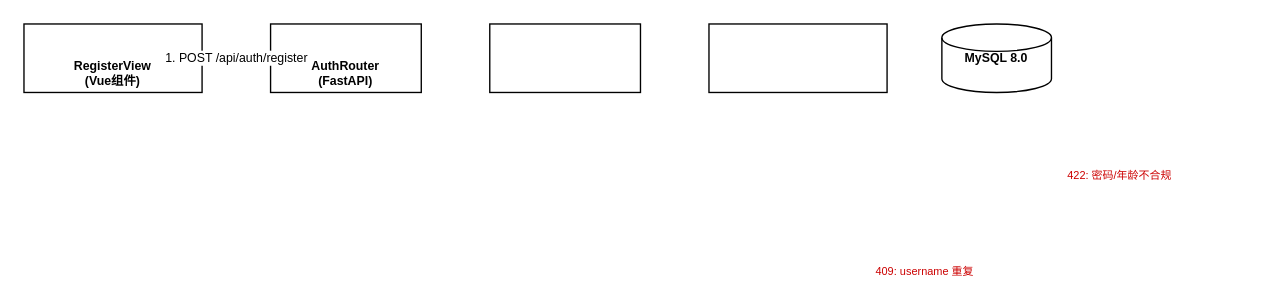
Some shapes in this 1281 by 304 pixel diagram are drawn without their labels. Each missing label, with the box of its shape:
AuthService (业务逻辑): (488, 23, 640, 92)
UserProfile (SQLAlchemy Model): (708, 23, 887, 92)
